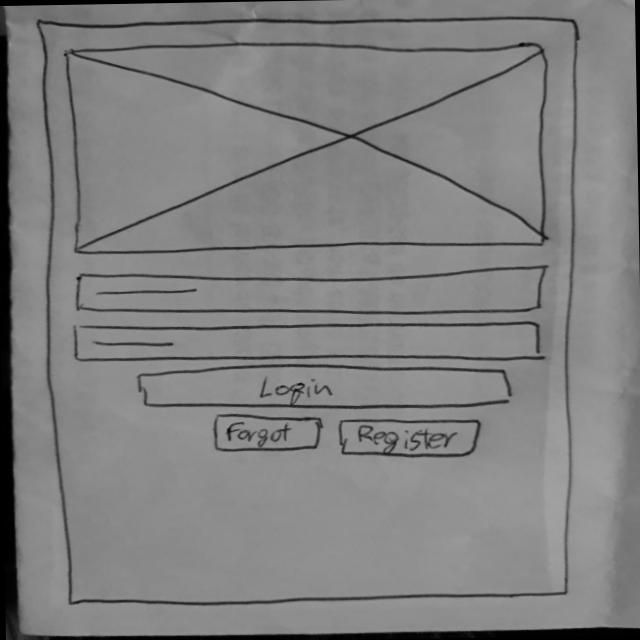button: (127, 360, 527, 417), (333, 414, 487, 464), (206, 411, 329, 458)
container: (27, 7, 584, 613)
image: (61, 35, 559, 259)
input: (72, 264, 554, 324), (64, 315, 556, 373)
